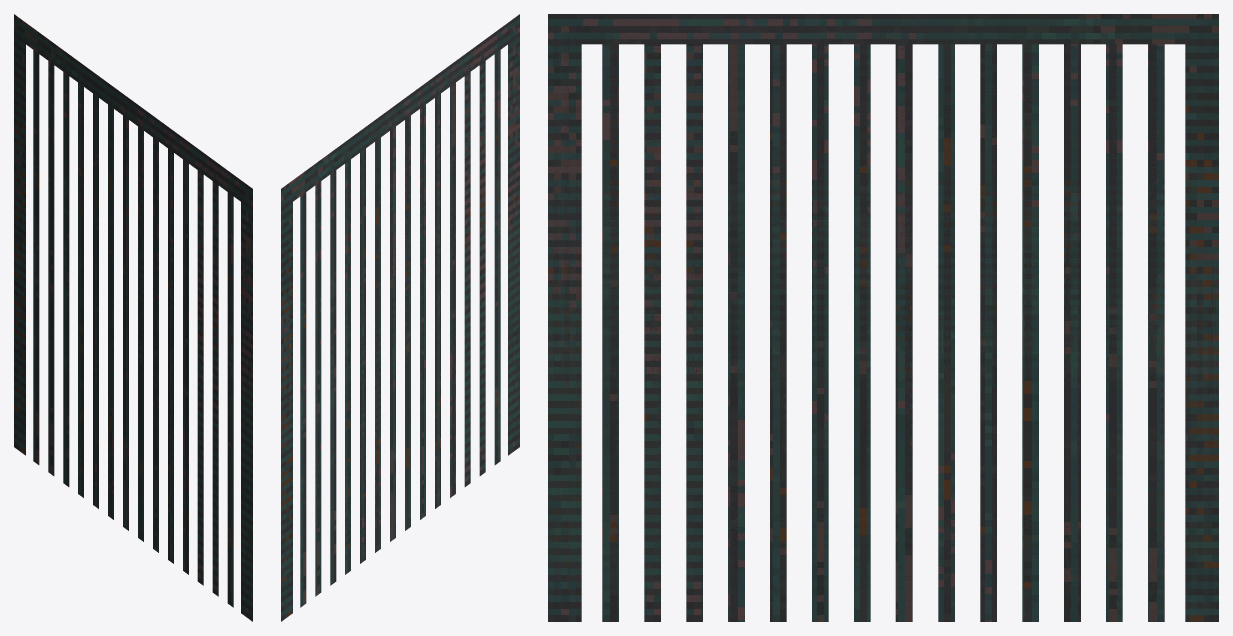
Rendered from Bars.glb.
3 renders of one model, left to right at view 1: azimuth 30°, elevation 25°; view 2: azimuth 150°, elevation 25°; view 3: azimuth 270°, elevation 25°, orthographic. The views are drawn at different scales.
Visible parts, largest first — view 1: Bars; view 2: Bars; view 3: Bars.
Boxes of the visible parts, x1,y1,x2,y2 form: Bars: (14,14,252,621); Bars: (281,14,519,621); Bars: (548,14,1218,621).
Size of the model in its own units: 0 by 4 by 4.
1 material, 1 textured.
